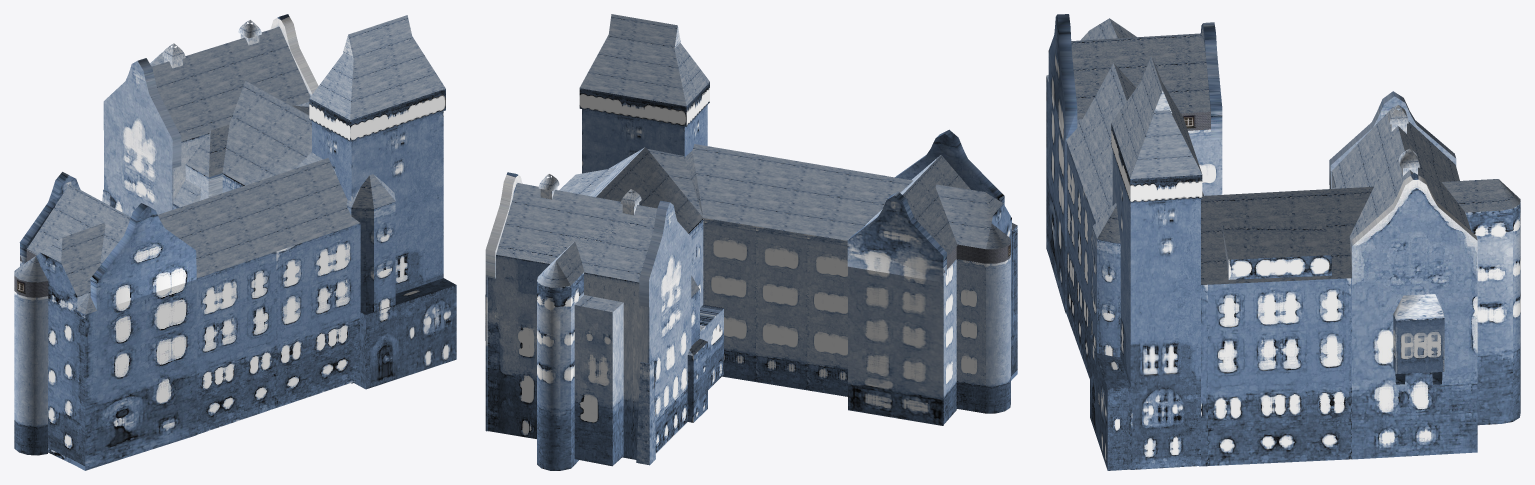
File: 1Tillich-Bau.gltf
The picture shows the model from 3 angles, left to right: view 1: azimuth 30°, elevation 25°; view 2: azimuth 150°, elevation 25°; view 3: azimuth 270°, elevation 25°; orthographic projection. The views are drawn at different scales.
Visible parts, largest first — view 1: Dach.1; view 2: Dach.1; view 3: Dach.1.
Boxes of the visible parts, x1,y1,x2,y2 form: Dach.1: [14, 14, 456, 470]; Dach.1: [485, 14, 1017, 470]; Dach.1: [1046, 14, 1520, 470].
Bounding box in the file's own units: 44.52 × 33.63 × 38.6.
26 materials, 26 textured.
